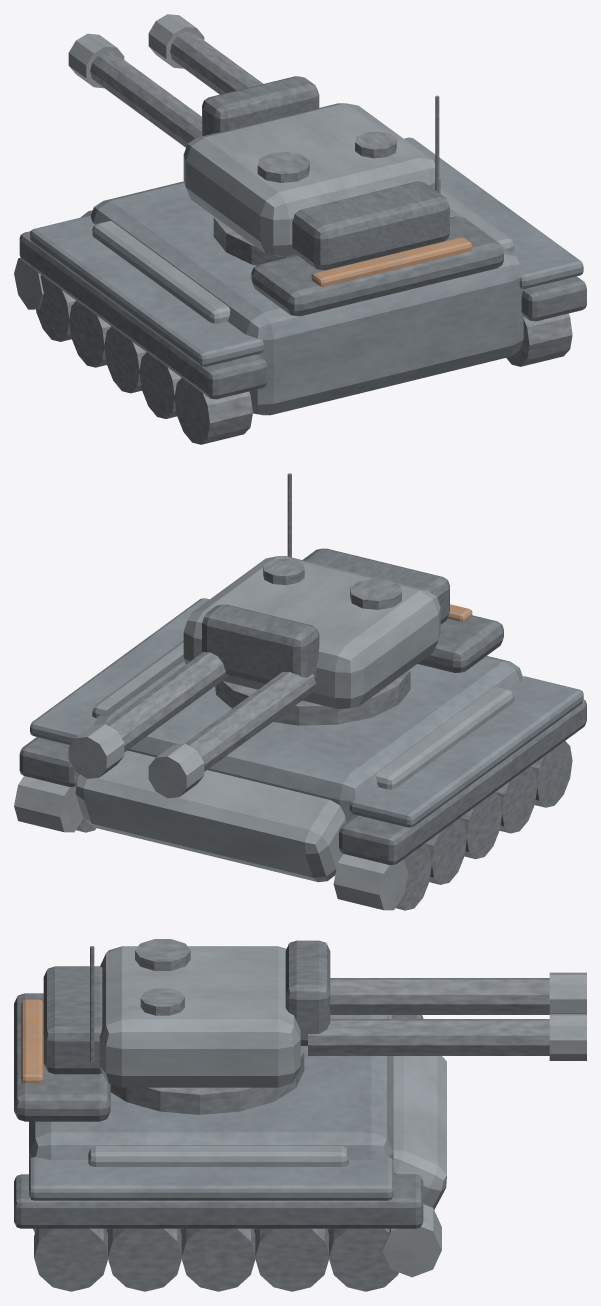
File: dir_bulwark_tank.glb
3 views of the same model, one above another, from view 1: azimuth 30°, elevation 25°; view 2: azimuth 150°, elevation 25°; view 3: azimuth 270°, elevation 25° (orthographic). The views are drawn at different scales.
Parts seen in each view (by area): view 1: dir_bulwark_tank, turret; view 2: dir_bulwark_tank, turret; view 3: dir_bulwark_tank, turret.
Part boxes in pixels (bbox=[...]): dir_bulwark_tank: bbox=[14, 137, 586, 444]; turret: bbox=[68, 14, 449, 270]; dir_bulwark_tank: bbox=[14, 598, 586, 910]; turret: bbox=[68, 473, 449, 798]; dir_bulwark_tank: bbox=[14, 993, 446, 1291]; turret: bbox=[43, 939, 586, 1087].
Size of the model in its own units: 1.25 by 0.86 by 1.54.
2 materials, 2 textured.
